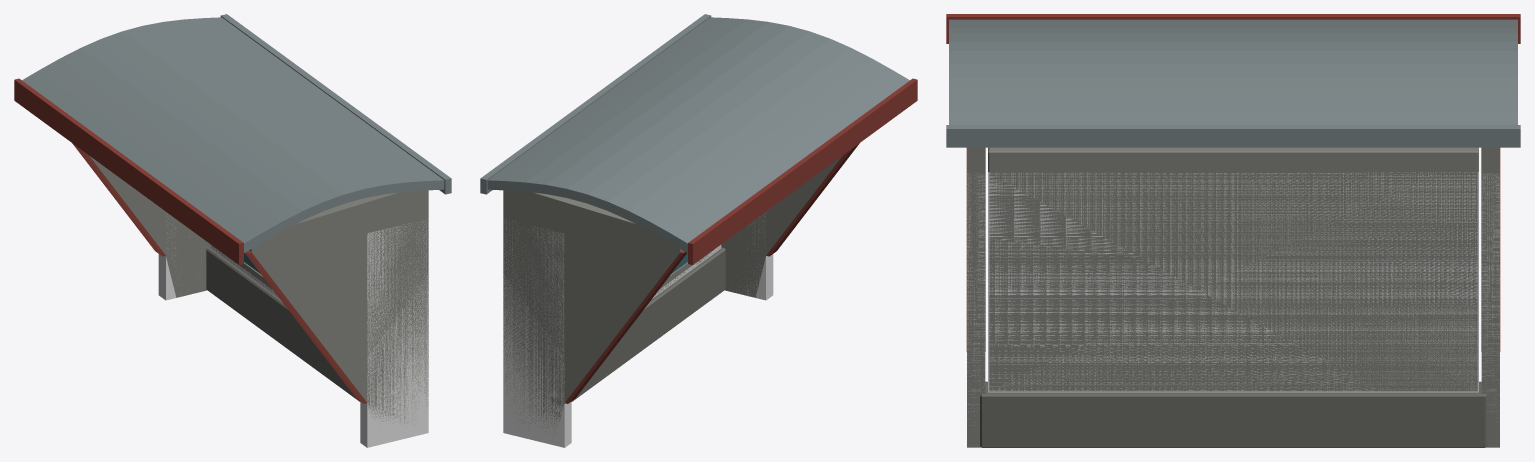
The model's file is stop-1.glb.
3 views of the same model, side by side, from view 1: azimuth 30°, elevation 25°; view 2: azimuth 150°, elevation 25°; view 3: azimuth 270°, elevation 25° (orthographic). The views are drawn at different scales.
Visible parts, largest first — view 1: 05_#7f8a8c, 01_#85857f, solid.001, 04_paint2, 00_#6e6e6a, solid.002; view 2: 05_#7f8a8c, 01_#85857f, solid.002, 04_paint2, 00_#6e6e6a, solid.001; view 3: 01_#85857f, 05_#7f8a8c, solid, 00_#6e6e6a, 04_paint2, solid.002, solid.001.
Part boxes in pixels (x1,y1,x2,y2): 05_#7f8a8c: [22, 14, 451, 252]; 01_#85857f: [89, 155, 428, 424]; solid.001: [360, 220, 428, 447]; 04_paint2: [14, 78, 366, 403]; 00_#6e6e6a: [206, 247, 360, 401]; solid.002: [158, 221, 206, 300]; 05_#7f8a8c: [480, 14, 909, 252]; 01_#85857f: [503, 155, 842, 435]; solid.002: [503, 219, 571, 447]; 04_paint2: [565, 78, 917, 403]; 00_#6e6e6a: [571, 247, 725, 401]; solid.001: [729, 212, 773, 300]; 01_#85857f: [967, 147, 1499, 447]; 05_#7f8a8c: [946, 19, 1520, 147]; solid: [988, 172, 1478, 392]; 00_#6e6e6a: [980, 381, 1486, 447]; 04_paint2: [946, 14, 1520, 351]; solid.002: [1481, 173, 1499, 433]; solid.001: [967, 173, 985, 425].
Size of the model in its own units: 2.42 by 2.91 by 4.44.
